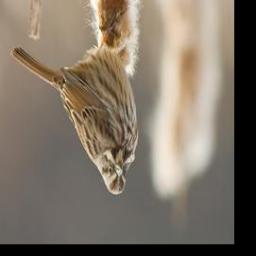Sparrow: (10, 5, 140, 197)
